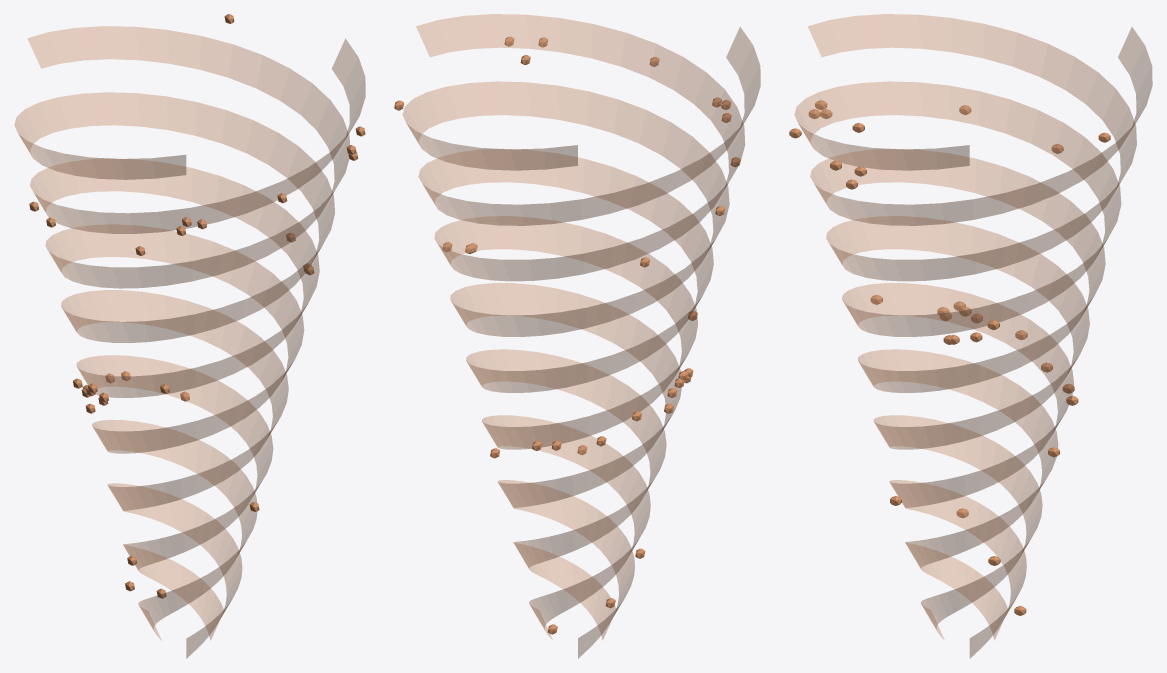
The model's file is Dust_Devil.glb.
3 renders of one model, left to right at view 1: azimuth 30°, elevation 25°; view 2: azimuth 150°, elevation 25°; view 3: azimuth 270°, elevation 25°, orthographic.
Visible parts, largest first — view 1: Spiralling dust ribbon.001, Spiralling dust ribbon.002, Spiralling dust ribbon; view 2: Spiralling dust ribbon, Spiralling dust ribbon.001, Spiralling dust ribbon.002; view 3: Spiralling dust ribbon.002, Spiralling dust ribbon, Spiralling dust ribbon.001.
Boxes of the visible parts, left/top/right/bottom form: Spiralling dust ribbon.001: left=27, top=26, right=349, bottom=640; Spiralling dust ribbon.002: left=14, top=92, right=334, bottom=658; Spiralling dust ribbon: left=30, top=38, right=365, bottom=640; Spiralling dust ribbon: left=416, top=14, right=745, bottom=639; Spiralling dust ribbon.001: left=402, top=81, right=729, bottom=658; Spiralling dust ribbon.002: left=418, top=27, right=760, bottom=640; Spiralling dust ribbon.002: left=808, top=14, right=1136, bottom=639; Spiralling dust ribbon: left=794, top=81, right=1121, bottom=658; Spiralling dust ribbon.001: left=810, top=27, right=1152, bottom=640.
Size of the model in its own units: 1.8 by 3.15 by 1.78.
